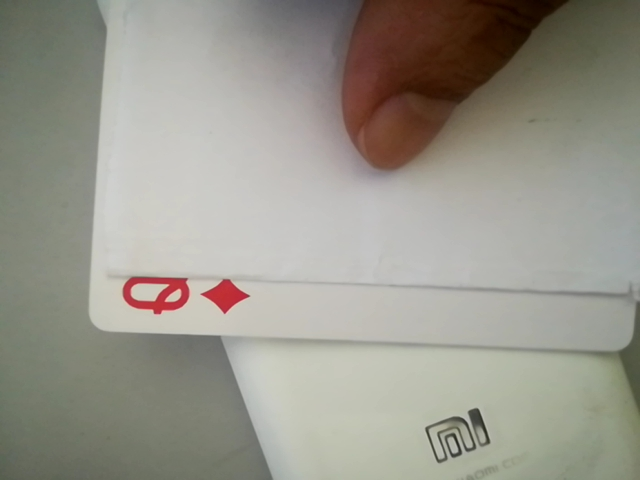fk q: (103, 272, 250, 327)
